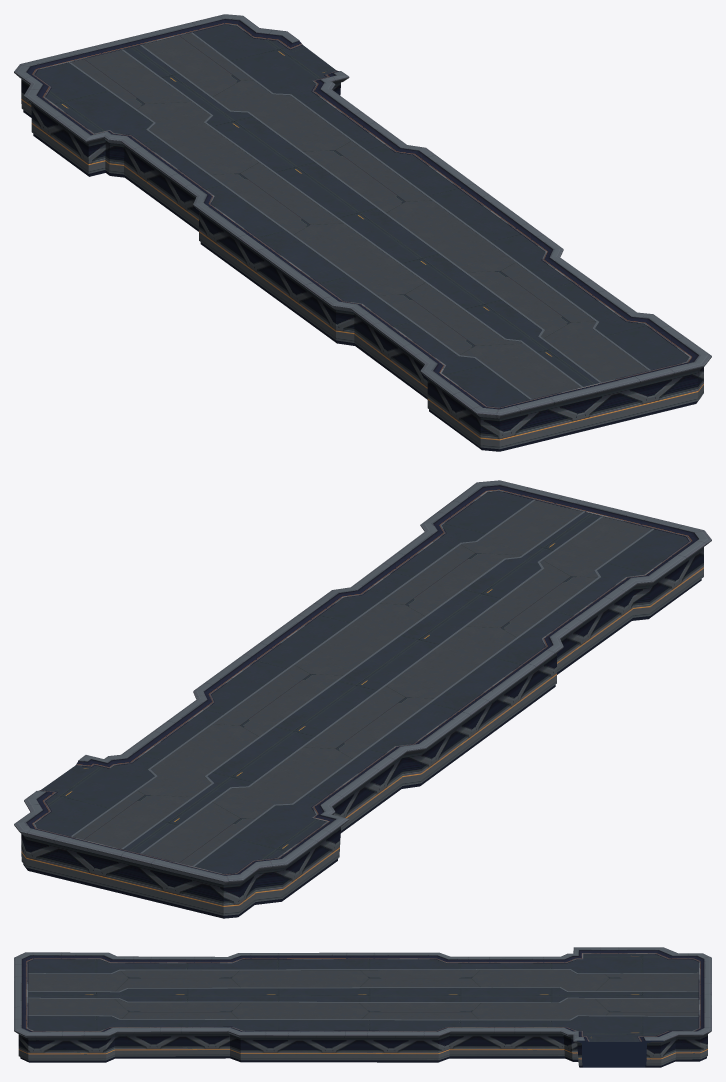
Rendered from Scece_01_tongdao02.FBX.
3 renders of one model, top to bottom at view 1: azimuth 30°, elevation 25°; view 2: azimuth 150°, elevation 25°; view 3: azimuth 270°, elevation 25°, orthographic. The views are drawn at different scales.
Visible parts, largest first — view 1: Scece_01_tongdao02_03, Scece_01_tongdao02_01, Scece_01_tongdao02_02; view 2: Scece_01_tongdao02_03, Scece_01_tongdao02_01, Scece_01_tongdao02_02; view 3: Scece_01_tongdao02_03, Scece_01_tongdao02_01, Scece_01_tongdao02_02.
Boxes of the visible parts, bbox=[...] form: Scece_01_tongdao02_03: bbox=[14, 14, 711, 451]; Scece_01_tongdao02_01: bbox=[71, 33, 648, 399]; Scece_01_tongdao02_02: bbox=[35, 24, 688, 407]; Scece_01_tongdao02_03: bbox=[14, 480, 711, 918]; Scece_01_tongdao02_01: bbox=[73, 500, 651, 866]; Scece_01_tongdao02_02: bbox=[35, 491, 688, 873]; Scece_01_tongdao02_03: bbox=[14, 947, 711, 1067]; Scece_01_tongdao02_01: bbox=[28, 969, 698, 1019]; Scece_01_tongdao02_02: bbox=[28, 954, 698, 1041].
Size of the model in its own units: 0.8542 by 0.1282 by 2.69.
Materials: 3 (3 with a texture image).
